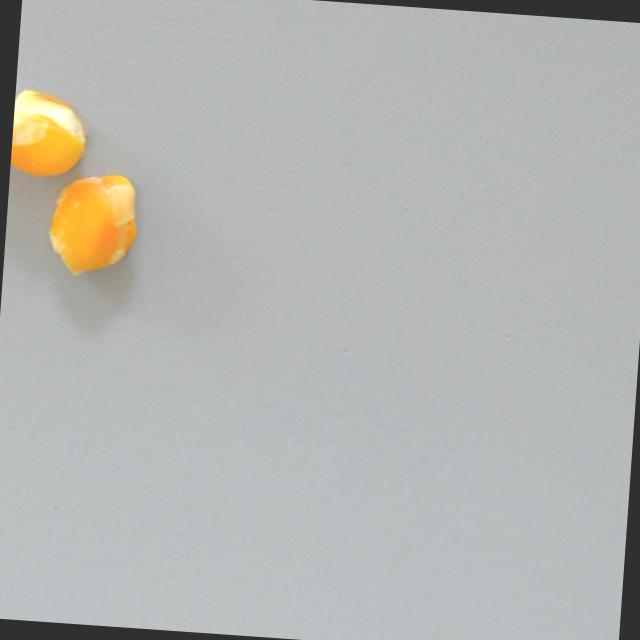pelicula: (30, 165, 149, 287), (9, 81, 99, 183)
